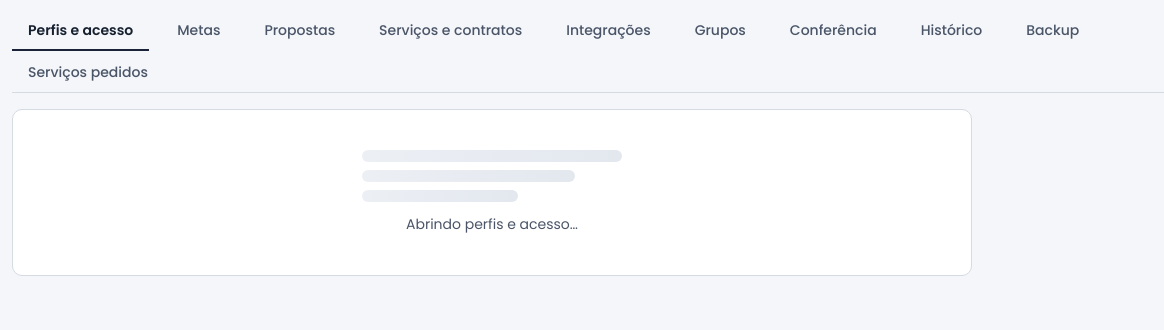
Test: pedidos de serviço novo › lista o que o lead pediu fora do catálogo
This screenshot has width=1164, height=330.
Click the tab "Serviços pedidos".
click(88, 74)  # box [12, 54, 164, 93]
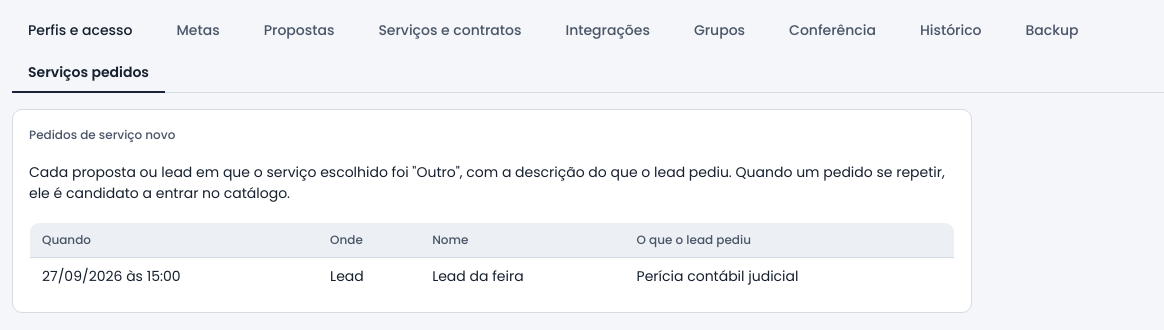
Now the text "Lead da feira" is shown, box [420, 258, 624, 296]
Now the text "Lead" is shown, box [318, 258, 420, 296]
